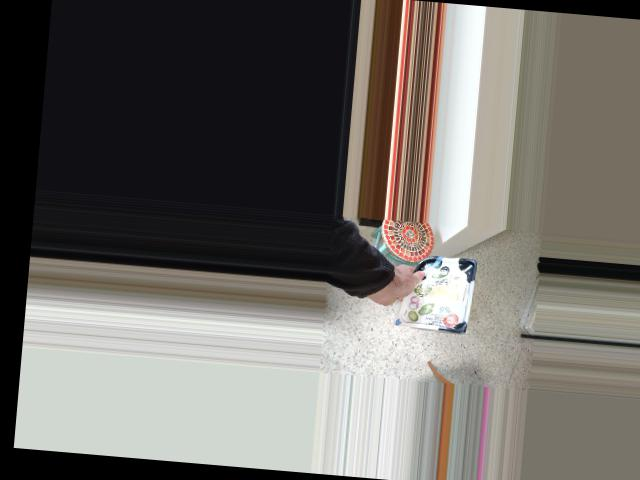cheese: (371, 241, 474, 344)
